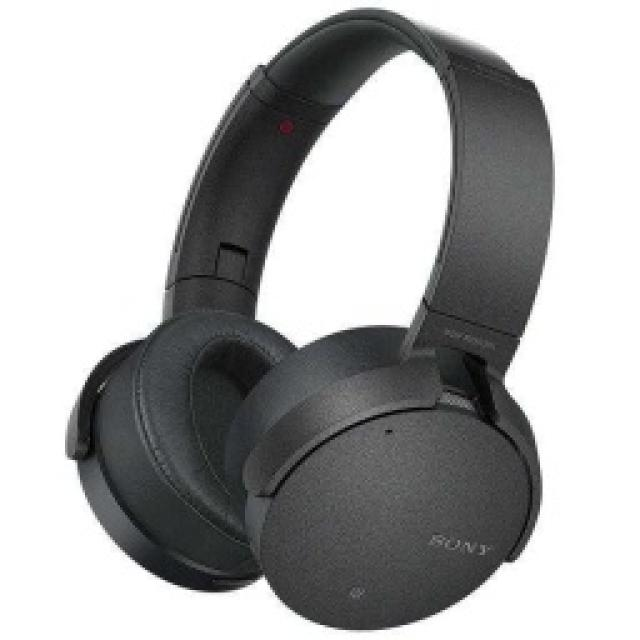headphones: (63, 5, 555, 630)
